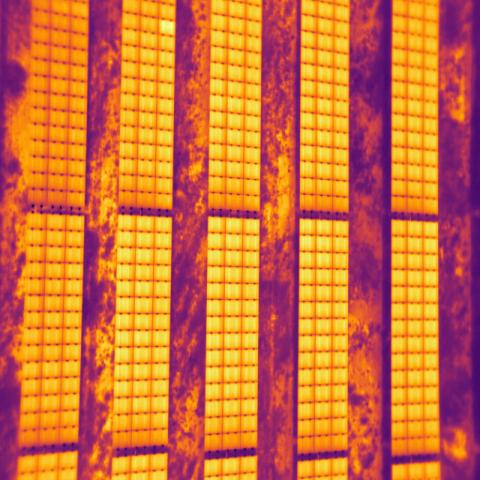fault: (158, 18, 178, 34)
